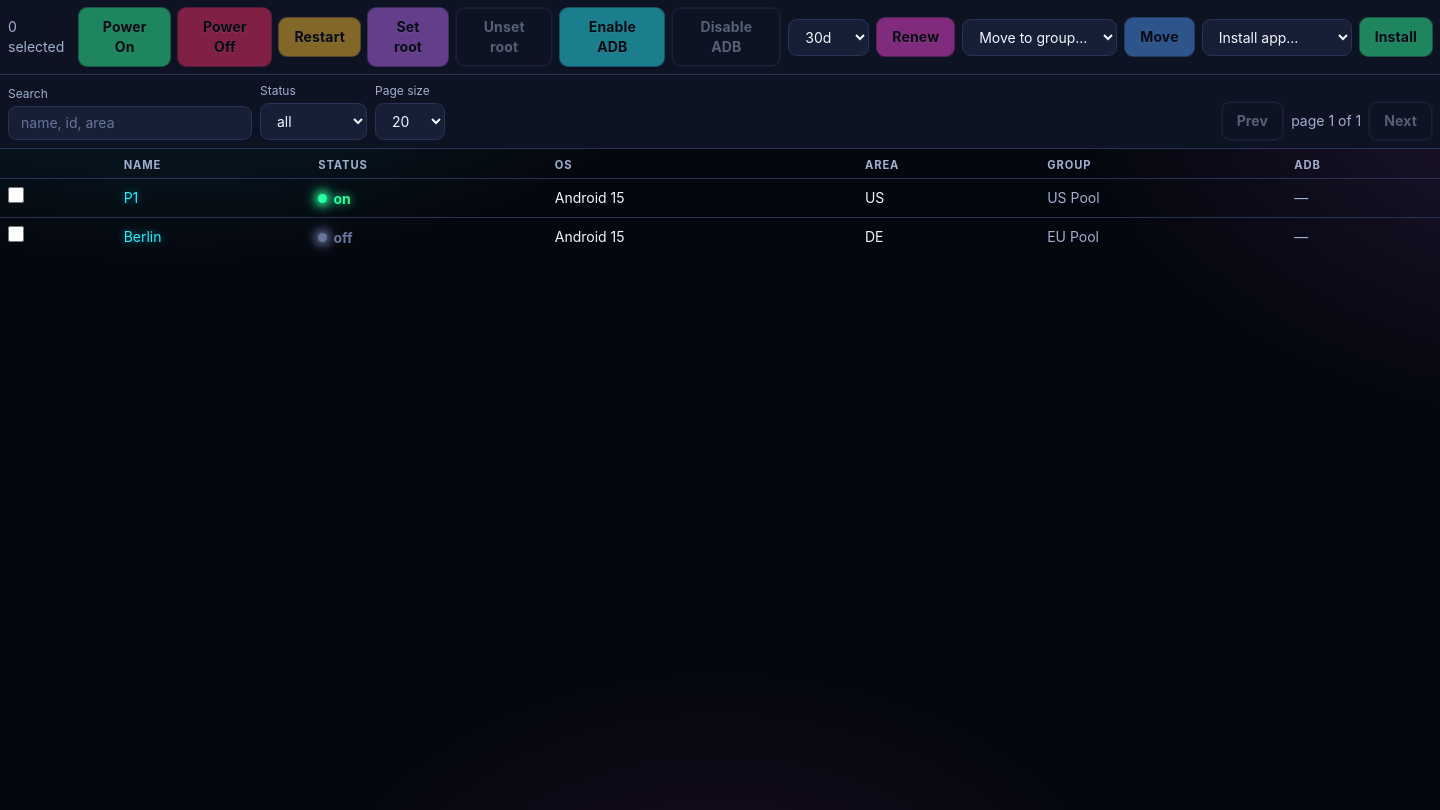
FleetPage › filters visible rows by search
Expected: the button "P1" is shown, [124,187,138,208]
Expected: the button "Berlin" is shown, [124,226,162,248]
Type "berlin" into the field named "search fleet".
click(130, 123); type("berlin")  # box [8,106,252,140]
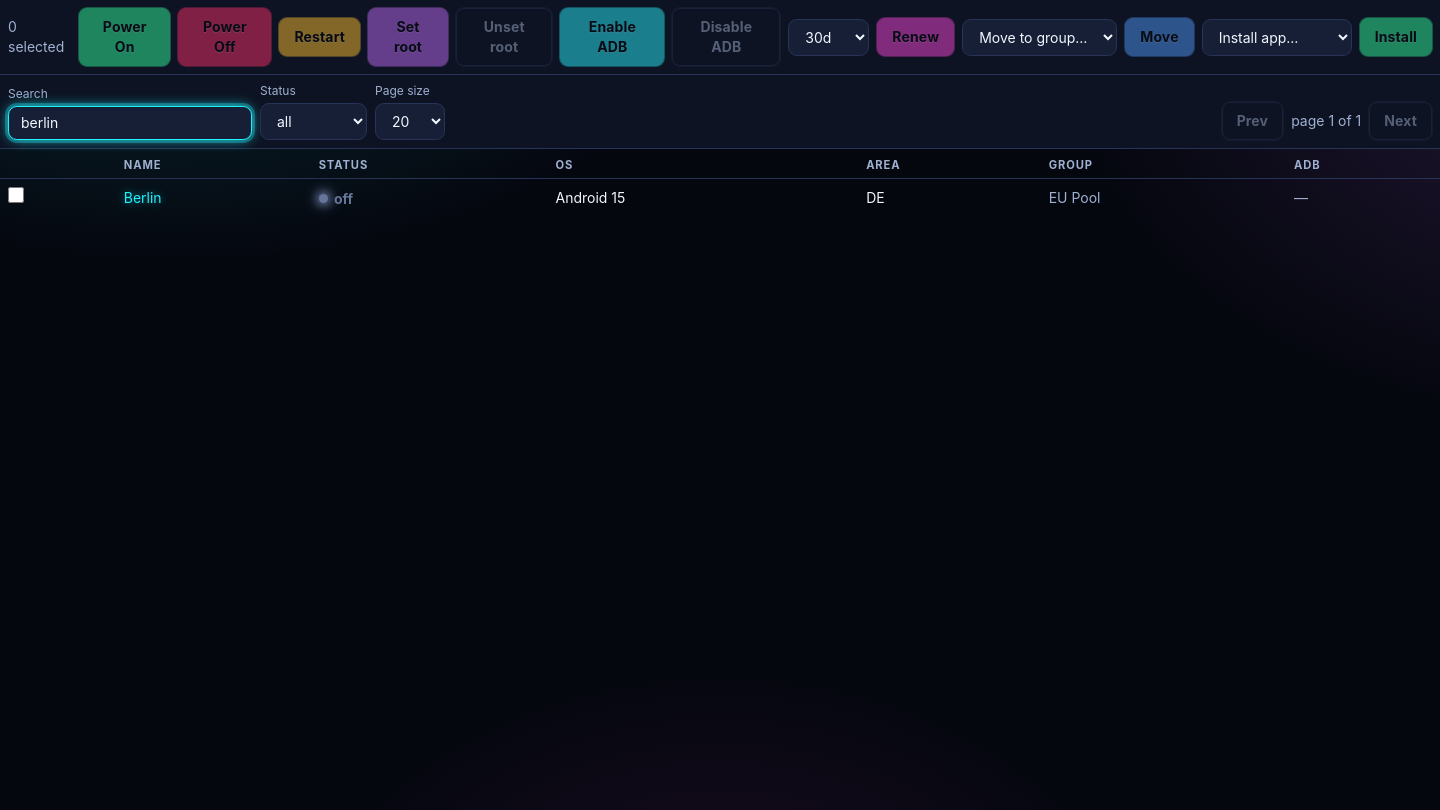
Expected: the button "Berlin" is shown, [124,187,162,208]
Expected: the button "P1" is gone
